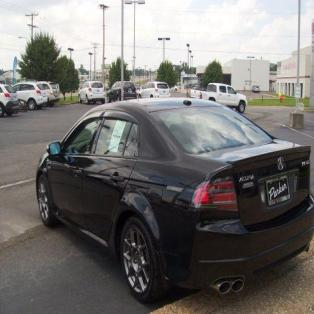Auto: (35, 96, 313, 304)
